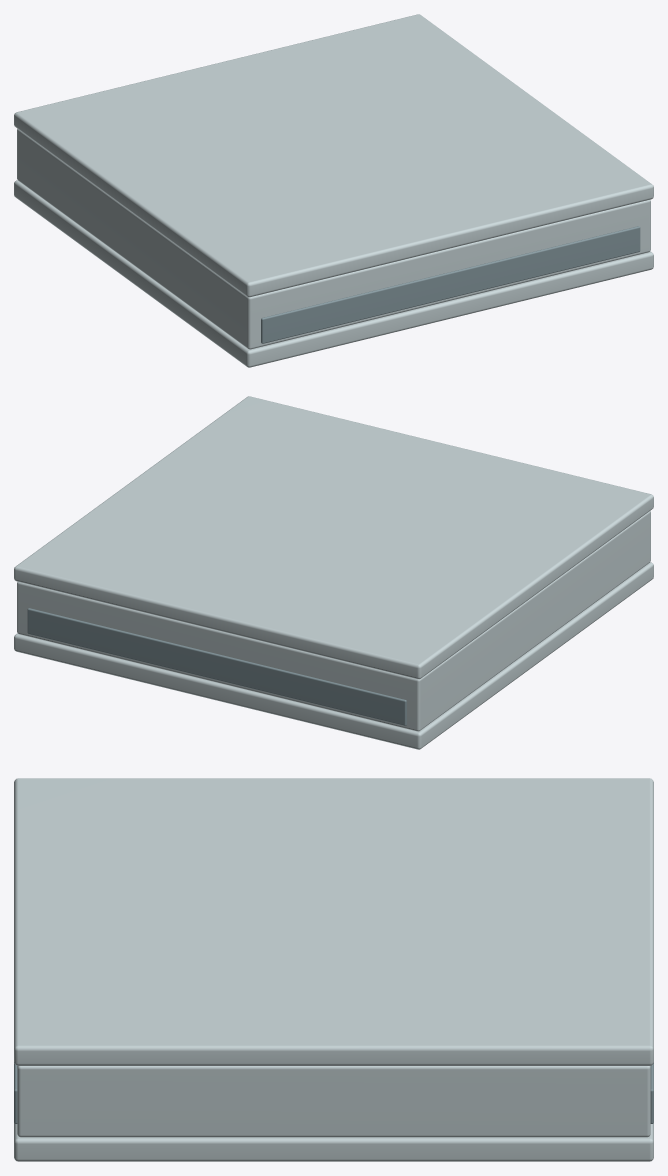
The model's file is platform.glb.
3 renders of one model, top to bottom at view 1: azimuth 30°, elevation 25°; view 2: azimuth 150°, elevation 25°; view 3: azimuth 270°, elevation 25°, orthographic. The views are drawn at different scales.
Parts seen in each view (by area): view 1: top, core, base, side_inset_1; view 2: top, core, base, side_inset_-1; view 3: top, core, base.
Part boxes in pixels (bbox=[...]): top: bbox=[14, 14, 653, 297]; core: bbox=[17, 128, 650, 349]; base: bbox=[14, 180, 653, 367]; side_inset_1: bbox=[261, 226, 640, 343]; top: bbox=[14, 396, 653, 679]; core: bbox=[17, 510, 650, 731]; base: bbox=[14, 562, 653, 749]; side_inset_-1: bbox=[27, 608, 406, 725]; top: bbox=[14, 778, 653, 1065]; core: bbox=[17, 1066, 650, 1137]; base: bbox=[14, 1123, 653, 1161].
Bounding box in the file's own units: 2 × 0.4 × 2.
